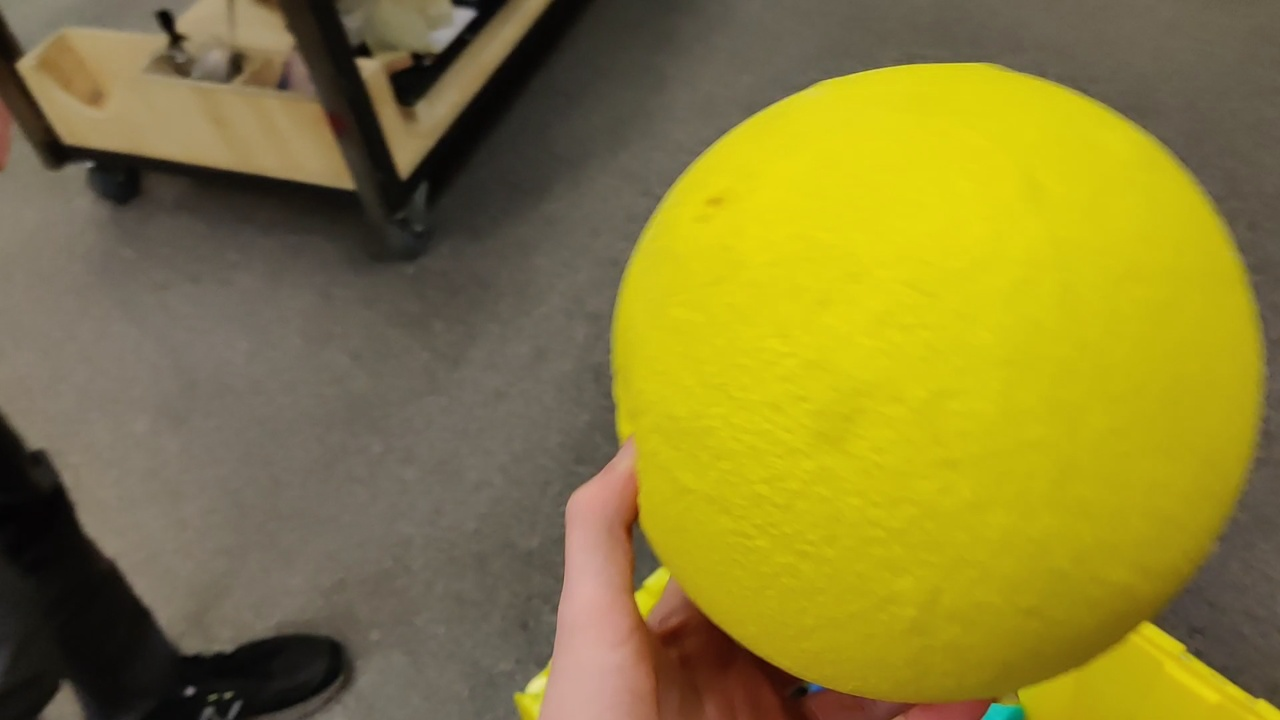Ball: (611, 63, 1270, 702)
